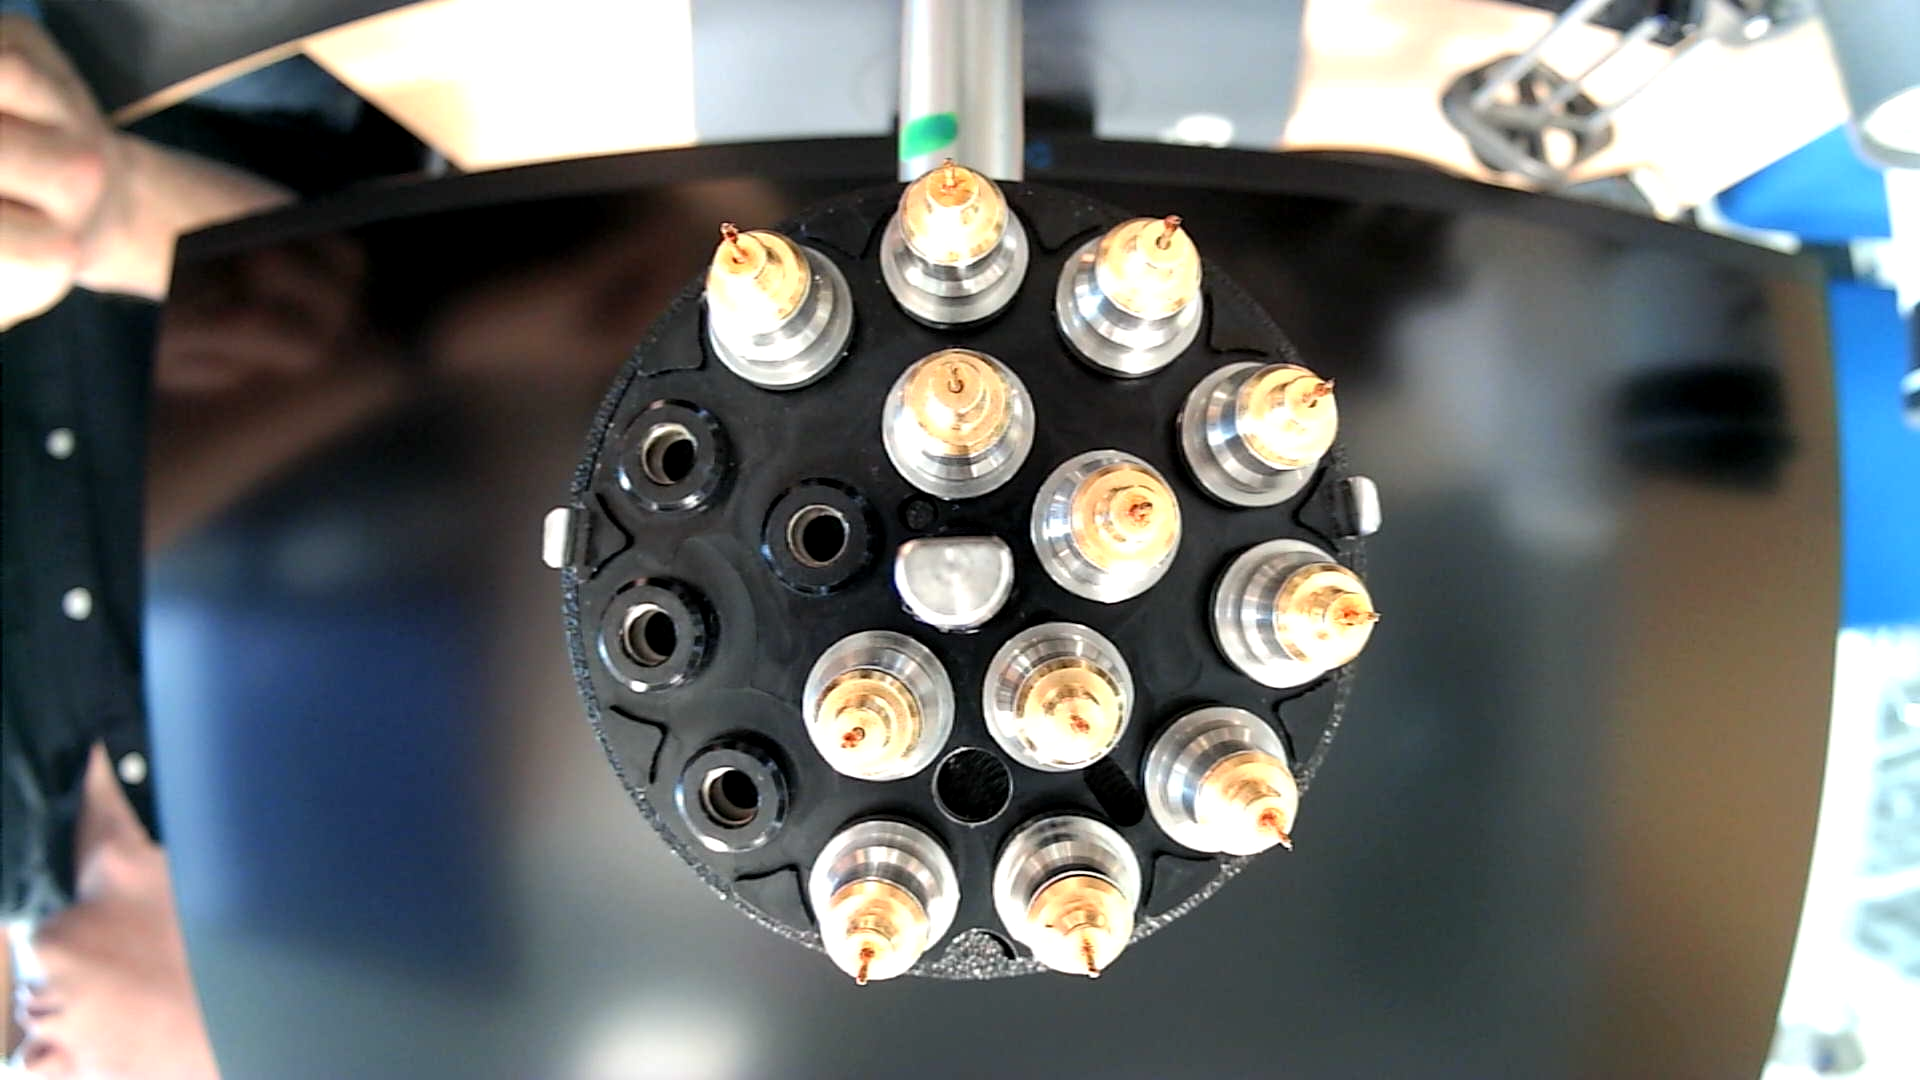empty: (595, 571, 723, 695), (673, 731, 798, 856), (757, 472, 884, 596), (613, 397, 731, 518)
hole: (931, 745, 1014, 829)
pin: (804, 814, 964, 989), (702, 218, 855, 396), (880, 156, 1031, 330), (1209, 537, 1379, 691), (992, 812, 1145, 982), (800, 626, 959, 787), (1055, 214, 1207, 381), (1178, 357, 1340, 512), (880, 344, 1036, 502), (1029, 447, 1184, 605), (1145, 702, 1300, 858), (980, 620, 1139, 773)
rod: (890, 535, 1021, 636)
